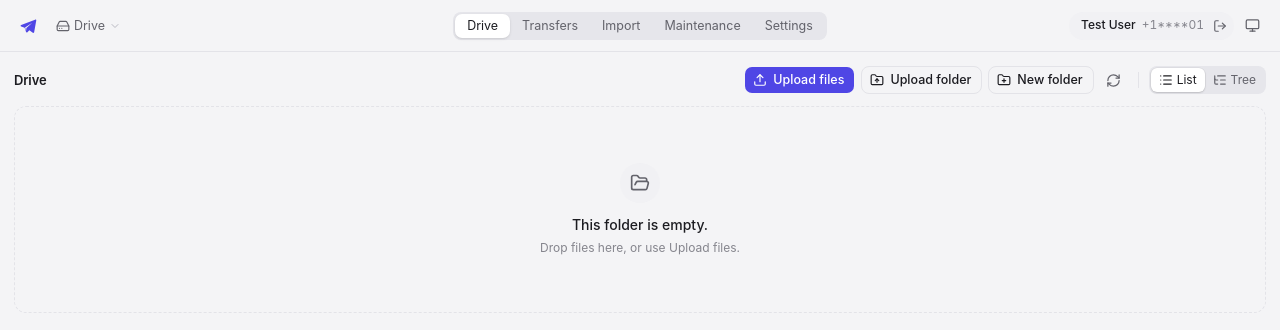
Test case: a transfer another front end runs wears the CLI badge
Press the mouse on the tab "Transfers" at (550, 26), box [510,14,590,38]
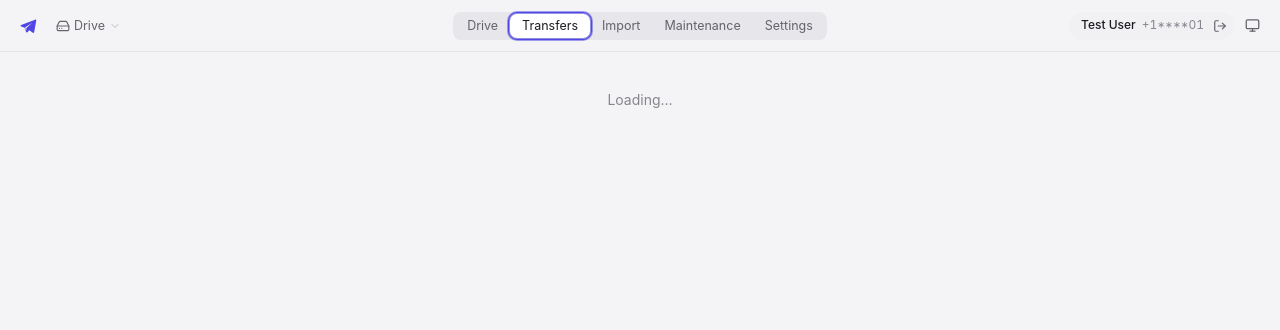
Click the tab "Transfers" at (550, 26), box [510,14,590,38]
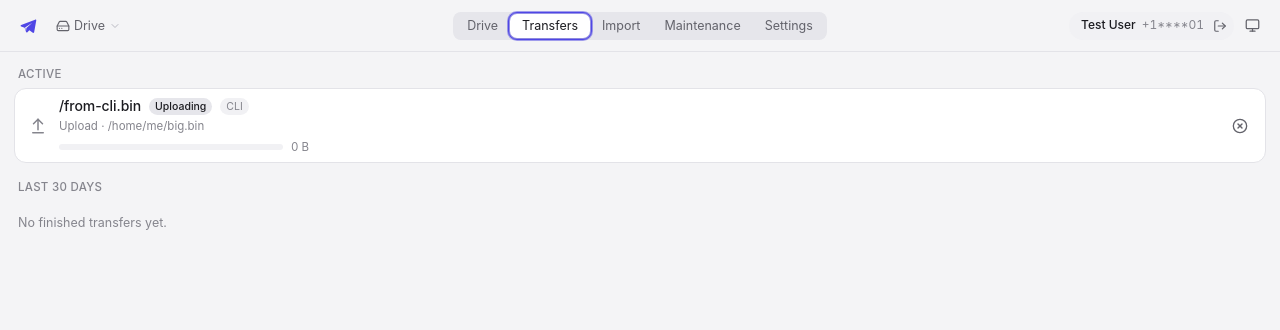
Now the element "Active" is shown, box [14,66,1266,163]
Now the list item shows "cli", box [226,100,243,113]
